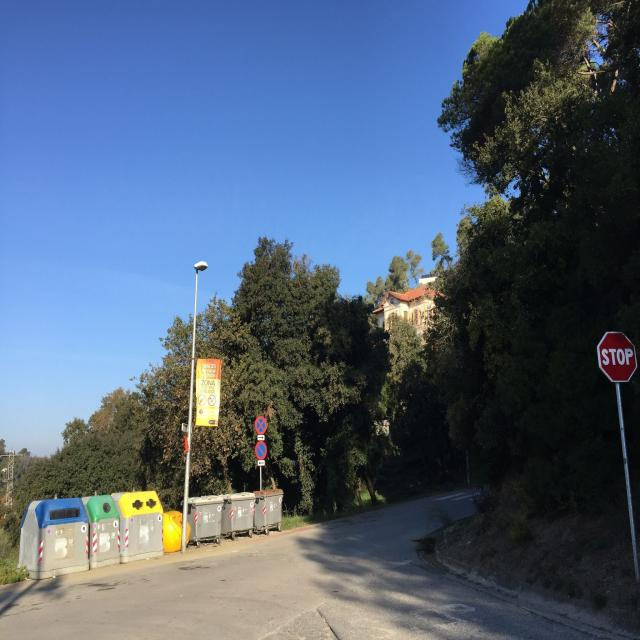forb_stopping: (255, 440, 267, 460)
forb_waiting: (255, 416, 266, 434)
